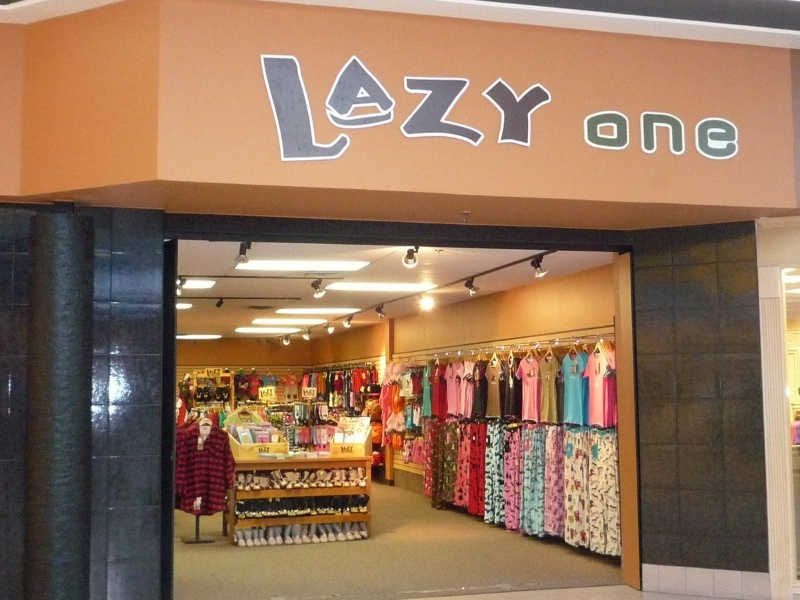text: (257, 45, 272, 165), (273, 45, 288, 165), (289, 45, 304, 165), (305, 45, 320, 165), (321, 45, 336, 165), (337, 45, 352, 165), (353, 45, 368, 165), (369, 45, 384, 165), (385, 45, 400, 165), (401, 45, 416, 165), (417, 45, 432, 165), (433, 45, 448, 165), (449, 45, 464, 165), (465, 45, 480, 165), (481, 45, 496, 165), (497, 45, 512, 165), (513, 45, 528, 165), (529, 45, 544, 165), (545, 45, 555, 165), (593, 107, 608, 163), (609, 107, 624, 163), (625, 107, 640, 163), (641, 107, 656, 163), (657, 107, 672, 163), (673, 107, 688, 163), (689, 107, 704, 163), (705, 107, 720, 163), (721, 107, 736, 163), (584, 107, 592, 163), (737, 107, 742, 163), (209, 368, 222, 378), (260, 389, 272, 399), (258, 447, 272, 455), (305, 388, 317, 397), (341, 445, 352, 453), (273, 389, 275, 399), (353, 445, 355, 453), (207, 368, 208, 378), (303, 388, 304, 397)
